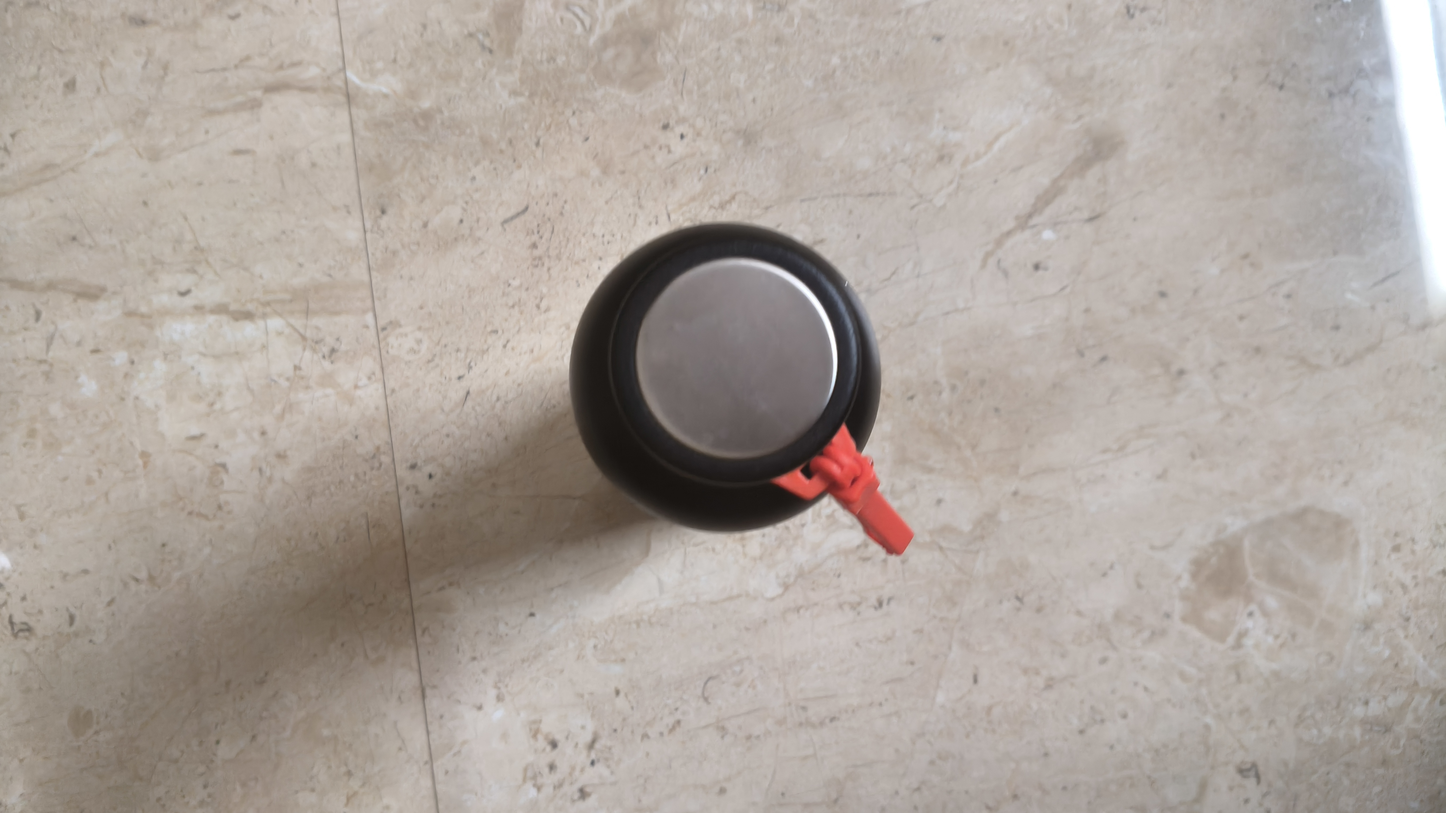bottles: (570, 224, 911, 554)
